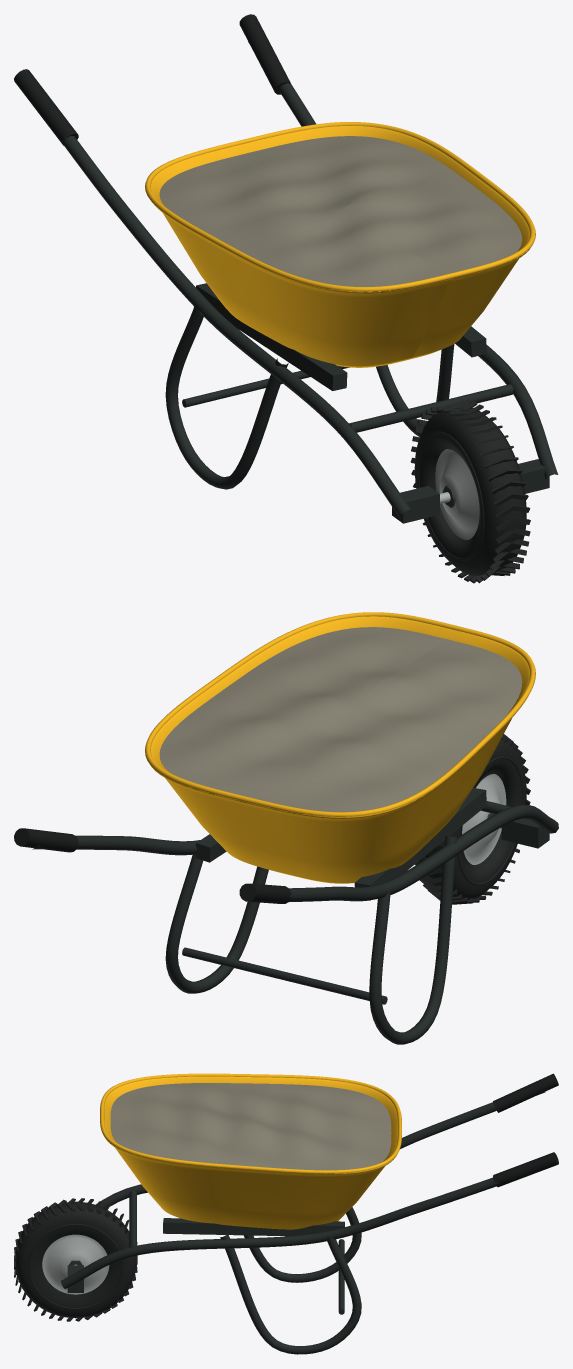
File: wheelbarrow.glb
The picture shows the model from 3 angles, top to bottom: view 1: azimuth 30°, elevation 25°; view 2: azimuth 150°, elevation 25°; view 3: azimuth 270°, elevation 25°; orthographic projection. The views are drawn at different scales.
Parts seen in each view (by area): view 1: ready-wet-mortar, pressed-yellow-tray, single-pneumatic-wheel-rubber-carcass, continuous-handle-rail--1, rolled-yellow-safety-rim, bent-support-leg--1, continuous-handle-rail-1, single-pneumatic-wheel-pressed-rim, under-tray-spreader--1, front-frame-cross-brace, rubber-hand-grip--1, rubber-hand-grip-1 (+5 smaller); view 2: ready-wet-mortar, pressed-yellow-tray, rolled-yellow-safety-rim, bent-support-leg--1, continuous-handle-rail--1, single-pneumatic-wheel-rubber-carcass, bent-support-leg-1, under-tray-spreader--1, continuous-handle-rail-1, rear-foot-cross-brace, single-pneumatic-wheel-pressed-rim, rubber-hand-grip-1 (+3 smaller); view 3: ready-wet-mortar, pressed-yellow-tray, single-pneumatic-wheel-rubber-carcass, continuous-handle-rail-1, rolled-yellow-safety-rim, bent-support-leg-1, single-pneumatic-wheel-pressed-rim, under-tray-spreader-1, continuous-handle-rail--1, bent-support-leg--1, rubber-hand-grip-1, rubber-hand-grip--1 (+3 smaller).
Part boxes in pixels (x1,y1,x2,y2): ready-wet-mortar: [159, 136, 522, 286]; pressed-yellow-tray: [145, 125, 530, 367]; single-pneumatic-wheel-rubber-carcass: [414, 407, 526, 575]; continuous-handle-rail--1: [60, 136, 410, 518]; rolled-yellow-safety-rim: [145, 122, 535, 292]; bent-support-leg--1: [165, 303, 288, 489]; continuous-handle-rail-1: [248, 42, 558, 479]; single-pneumatic-wheel-pressed-rim: [435, 449, 479, 540]; under-tray-spreader--1: [196, 283, 347, 390]; front-frame-cross-brace: [349, 384, 513, 432]; rubber-hand-grip--1: [14, 69, 78, 145]; rubber-hand-grip-1: [239, 14, 290, 94]; ready-wet-mortar: [159, 627, 522, 811]; pressed-yellow-tray: [145, 616, 529, 883]; rolled-yellow-safety-rim: [145, 612, 535, 816]; bent-support-leg--1: [369, 836, 457, 1044]; continuous-handle-rail--1: [254, 805, 558, 902]; single-pneumatic-wheel-rubber-carcass: [419, 739, 526, 899]; bent-support-leg-1: [165, 854, 268, 993]; under-tray-spreader--1: [354, 788, 486, 900]; continuous-handle-rail-1: [32, 835, 200, 855]; rear-foot-cross-brace: [182, 947, 387, 1004]; single-pneumatic-wheel-pressed-rim: [462, 774, 506, 864]; rubber-hand-grip-1: [14, 828, 78, 852]; ready-wet-mortar: [110, 1083, 391, 1170]; pressed-yellow-tray: [104, 1076, 397, 1229]; single-pneumatic-wheel-rubber-carcass: [15, 1201, 136, 1318]; continuous-handle-rail-1: [61, 1177, 499, 1288]; rolled-yellow-safety-rim: [100, 1073, 401, 1174]; bent-support-leg-1: [220, 1234, 361, 1354]; single-pneumatic-wheel-pressed-rim: [42, 1234, 109, 1294]; under-tray-spreader-1: [163, 1218, 344, 1236]; continuous-handle-rail--1: [96, 1090, 545, 1208]; bent-support-leg--1: [243, 1207, 361, 1282]; rubber-hand-grip-1: [493, 1152, 558, 1187]; rubber-hand-grip--1: [493, 1073, 558, 1112].
Bounding box in the file's own units: 0.7519 × 0.7486 × 1.8.
